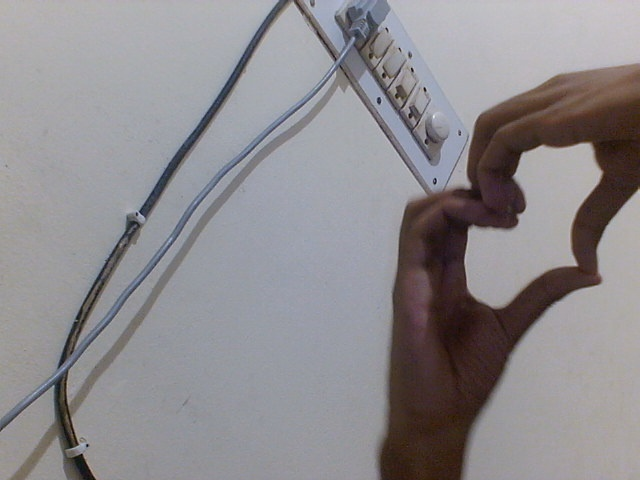hand: (382, 188, 607, 449), (465, 57, 640, 273)
